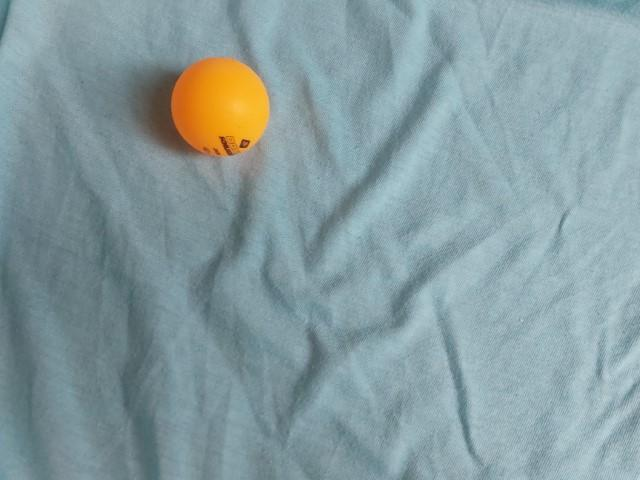oball: (162, 52, 276, 161)
